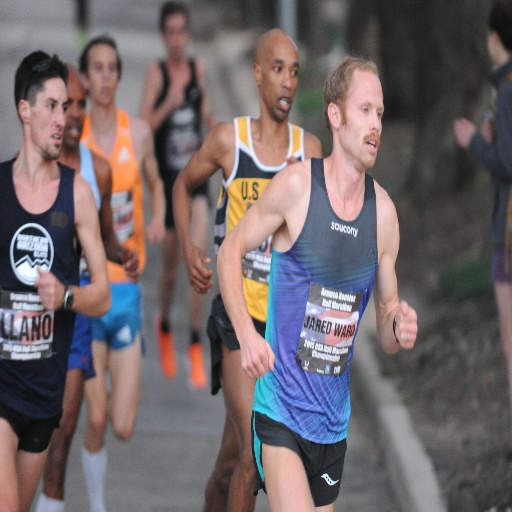hand: (237, 326, 273, 387), (33, 264, 64, 309), (184, 244, 212, 292), (395, 299, 417, 350), (120, 244, 139, 283), (452, 119, 475, 147), (145, 216, 165, 241), (169, 83, 183, 106), (480, 119, 492, 142), (283, 152, 297, 165), (207, 118, 217, 130)
